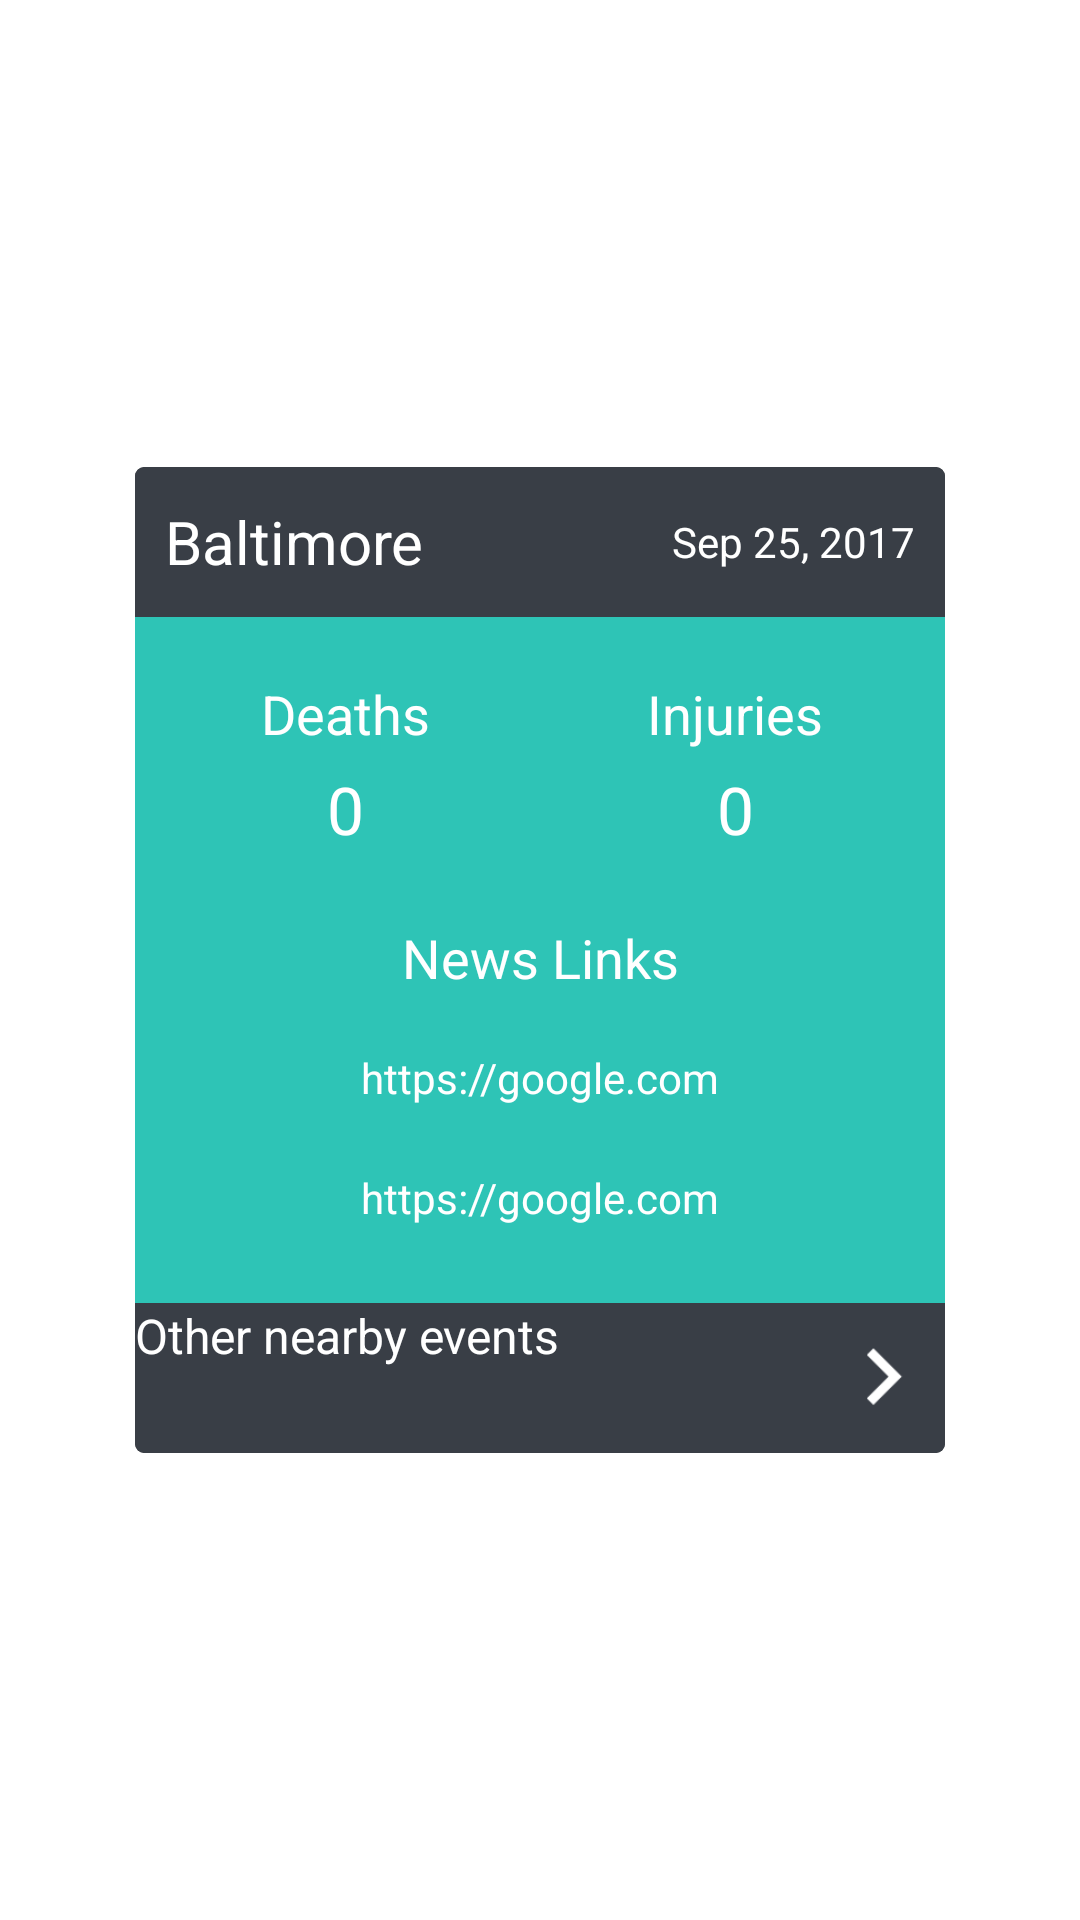

Icon bounding boxes for this 1080×1920 phone screenshot, format (x1, y1, x2, y2):
chevron right: (867, 1348, 902, 1405)
